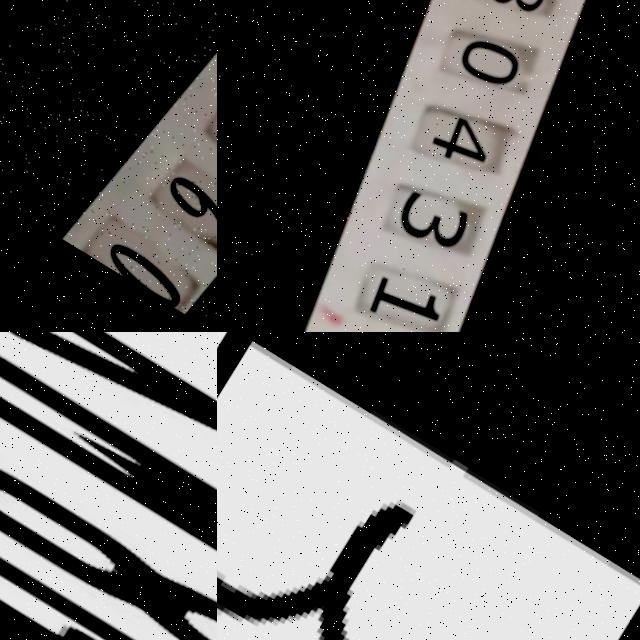0: (88, 211, 211, 320), (434, 9, 550, 117)
1: (346, 244, 467, 332)
3: (370, 161, 497, 281)
4: (406, 87, 522, 197)
6: (135, 145, 217, 268)
8: (0, 405, 217, 640), (459, 0, 577, 43)
B: (217, 332, 640, 640)
D: (68, 332, 217, 471)
E: (37, 332, 217, 563)
G: (0, 477, 217, 640)
K: (0, 332, 217, 636)
M: (0, 332, 217, 640)
